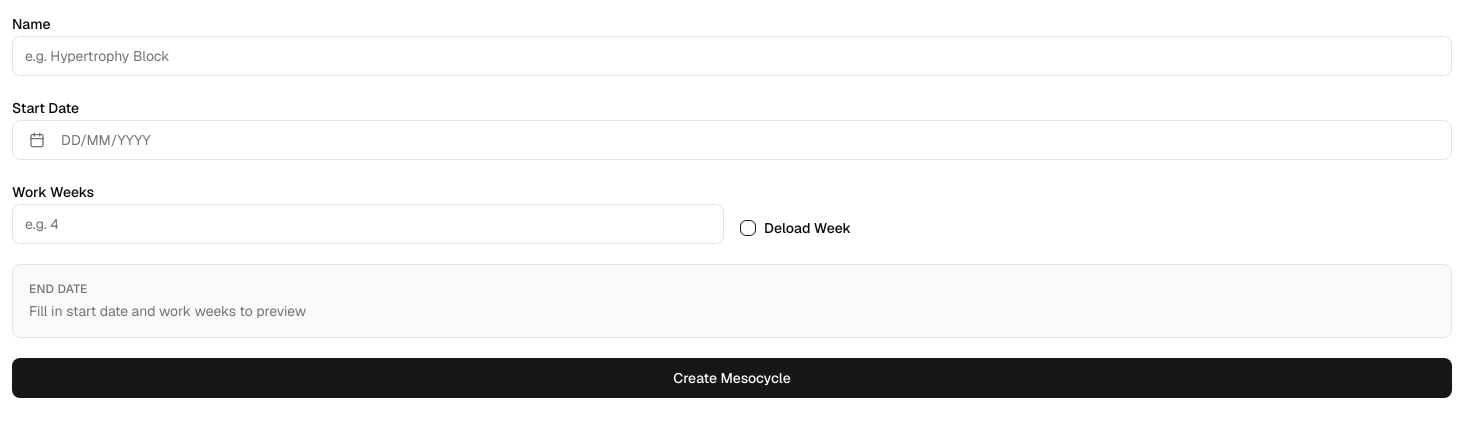
it: MesocycleForm › shows validation error when start_date is empty on submit
The image size is (1464, 447).
Type "Test Meso" into the field labelled "Name" at {"x": 732, "y": 56}, box [12,36,1452,76]
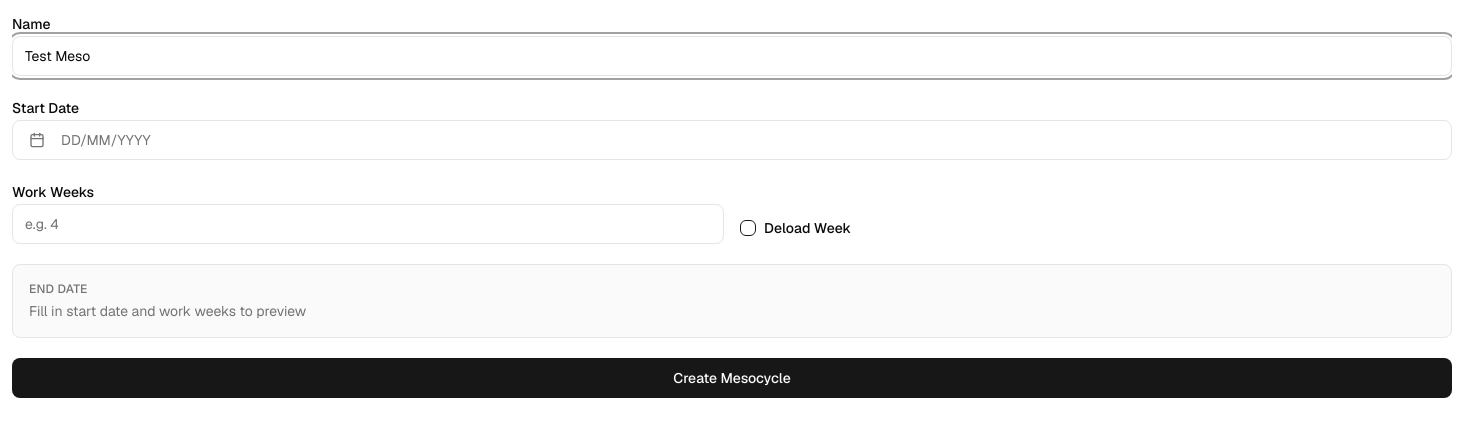
Type "4" into the field labelled "Work Weeks" at {"x": 368, "y": 224}, box [12,204,724,244]
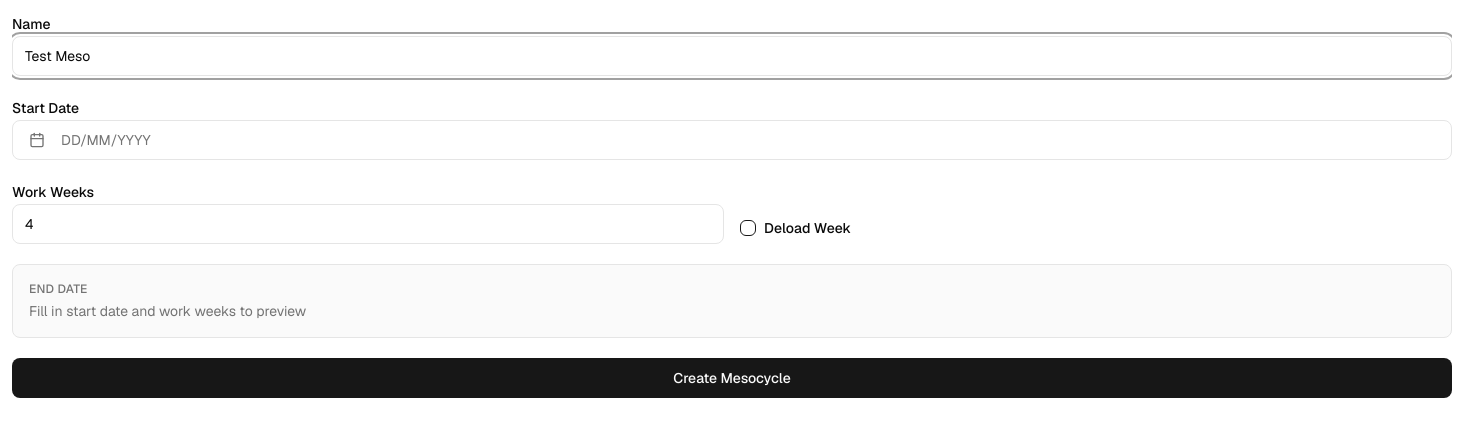
Click the button "Create Mesocycle" at {"x": 732, "y": 378}, box [12,358,1452,398]
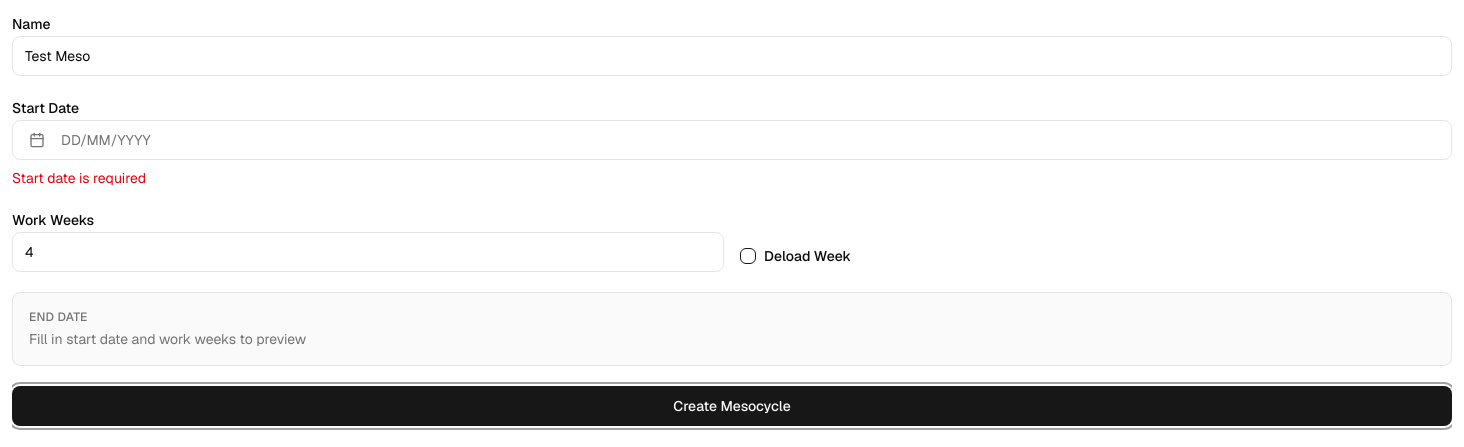
Now the text "Start date is required" is shown, box [12,169,146,187]
